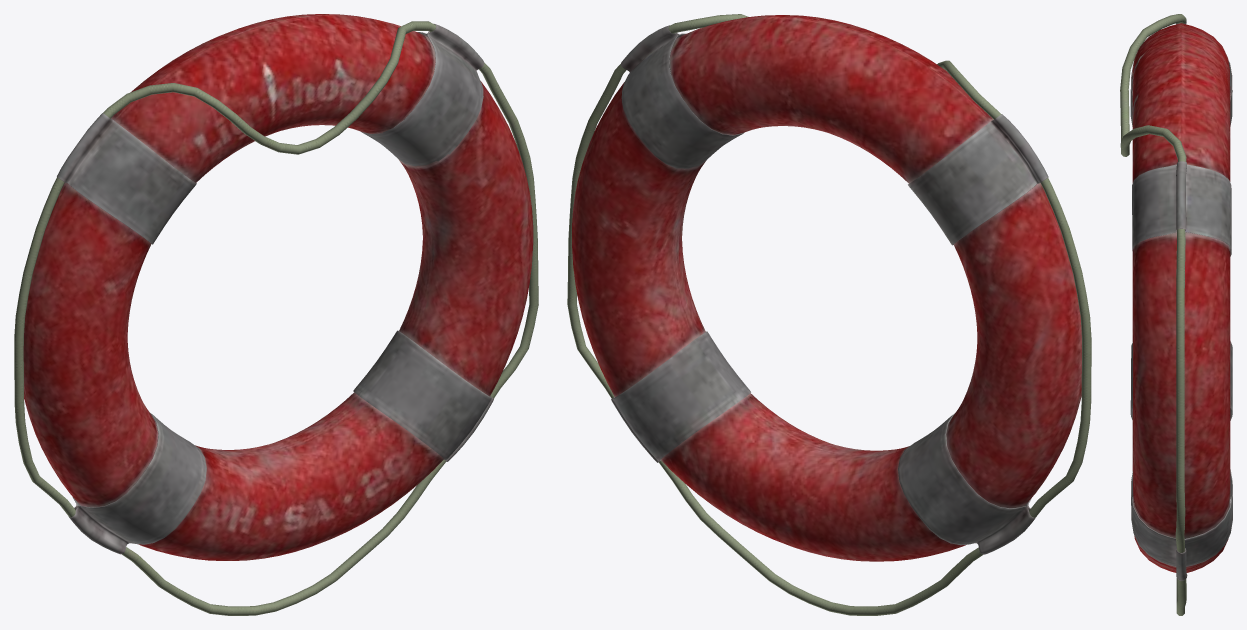
The model's file is lifebuoy.glb.
The picture shows the model from 3 angles, left to right: view 1: azimuth 30°, elevation 25°; view 2: azimuth 150°, elevation 25°; view 3: azimuth 270°, elevation 25°; orthographic projection. The views are drawn at different scales.
Parts seen in each view (by area): view 1: lifebuoy; view 2: lifebuoy; view 3: lifebuoy.
Boxes of the visible parts, x1,y1,x2,y2 form: lifebuoy: [14, 14, 538, 615]; lifebuoy: [567, 14, 1091, 615]; lifebuoy: [1120, 14, 1232, 615].
Bounding box in the file's own units: 0.7831 × 0.8412 × 0.1551.
Materials: 1 (1 with a texture image).
